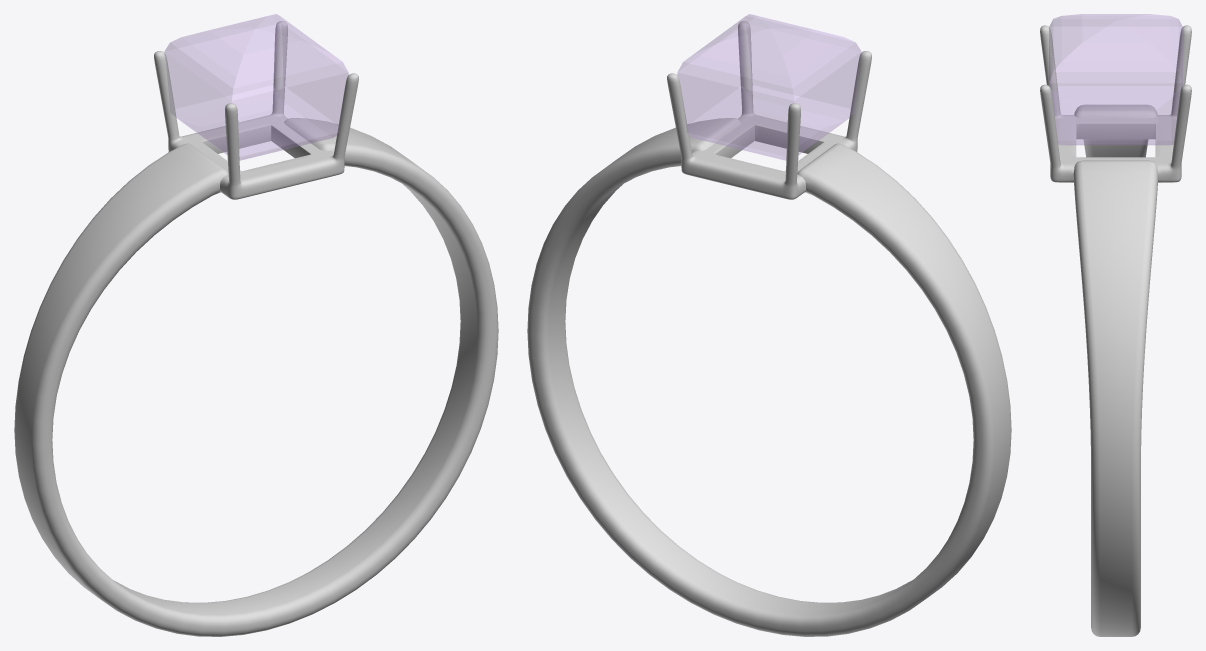
The model's file is rings.glb.
3 renders of one model, left to right at view 1: azimuth 30°, elevation 25°; view 2: azimuth 150°, elevation 25°; view 3: azimuth 270°, elevation 25°, orthographic.
Visible parts, largest first — view 1: gold, gem; view 2: gold, gem; view 3: gold, gem.
Part boxes in pixels (x1=…): gold: x1=14, y1=21, x2=498, y2=636; gem: x1=164, y1=14, x2=348, y2=160; gold: x1=527, y1=21, x2=1011, y2=636; gem: x1=677, y1=14, x2=861, y2=160; gold: x1=1040, y1=25, x2=1191, y2=636; gem: x1=1049, y1=14, x2=1182, y2=144.
Bounding box in the file's own units: 2.19 × 2.68 × 0.6234.
